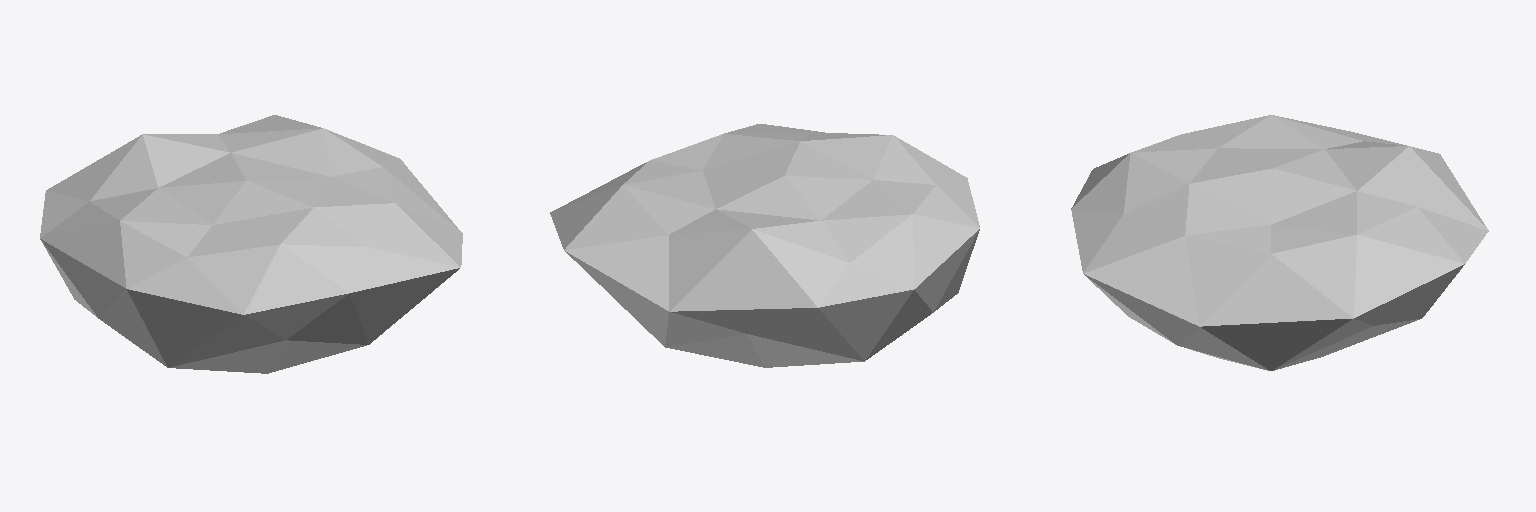
The model's file is Landmass 2.obj.
3 renders of one model, left to right at view 1: azimuth 30°, elevation 25°; view 2: azimuth 150°, elevation 25°; view 3: azimuth 270°, elevation 25°, orthographic.
Parts seen in each view (by area): view 1: LandMass_2; view 2: LandMass_2; view 3: LandMass_2.
Boxes of the visible parts, x1,y1,x2,y2 form: LandMass_2: [40, 115, 462, 373]; LandMass_2: [550, 124, 979, 367]; LandMass_2: [1071, 115, 1488, 370].
Size of the model in its own units: 5.65 by 2.57 by 5.64.